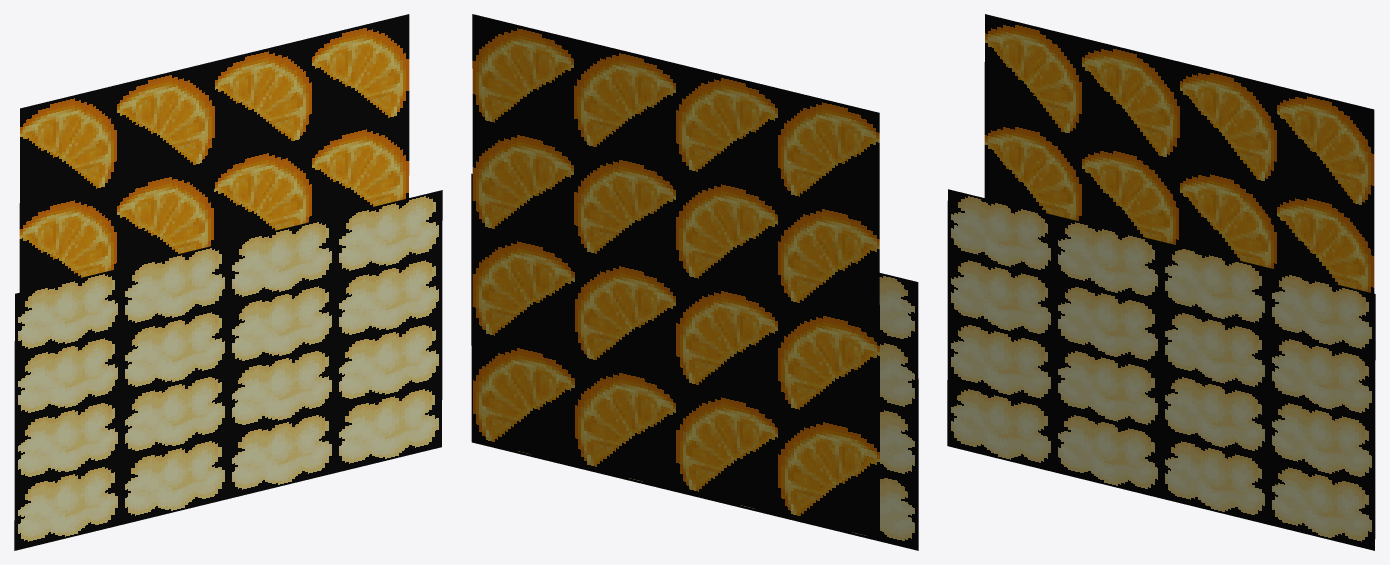
File: 1176item3537.gltf
3 renders of one model, left to right at view 1: azimuth 30°, elevation 25°; view 2: azimuth 150°, elevation 25°; view 3: azimuth 330°, elevation 25°, orthographic. The views are drawn at different scales.
Parts seen in each view (by area): view 1: 1176item3537; view 2: 1176item3537; view 3: 1176item3537.
Boxes of the visible parts, bbox=[...] form: 1176item3537: bbox=[14, 14, 442, 550]; 1176item3537: bbox=[471, 14, 918, 550]; 1176item3537: bbox=[947, 14, 1375, 550].
Bounding box in the file's own units: 0.2188 × 0.208 × 0.0142.
Materials: 3 (3 with a texture image).
